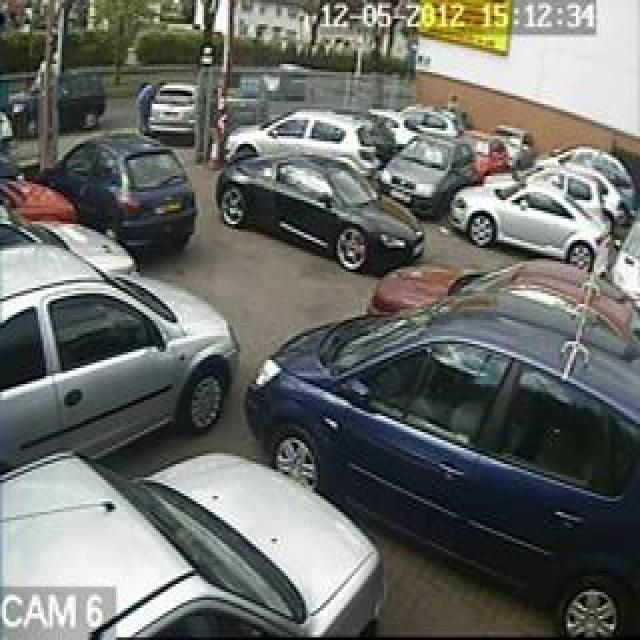stealing: (50, 29, 614, 640)
